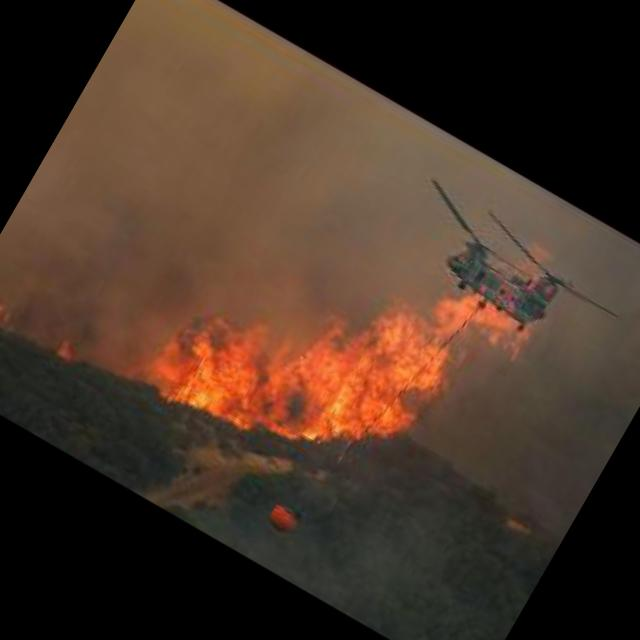fire: (127, 158, 543, 548), (0, 284, 17, 339), (54, 334, 84, 364)
